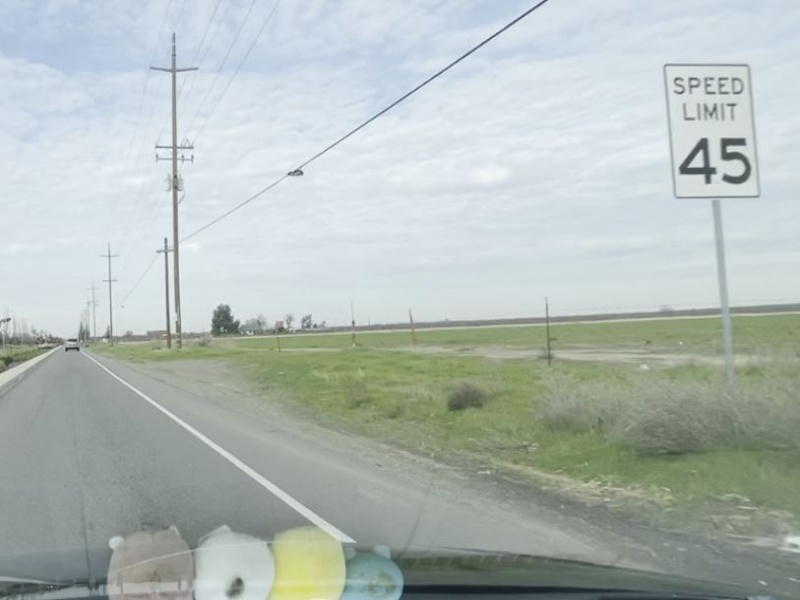speed limit sign: (657, 60, 766, 205)
